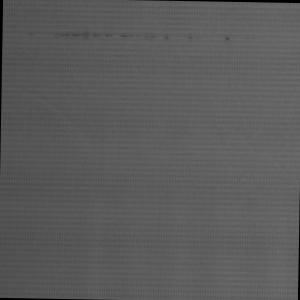Stain: (19, 27, 236, 51)
